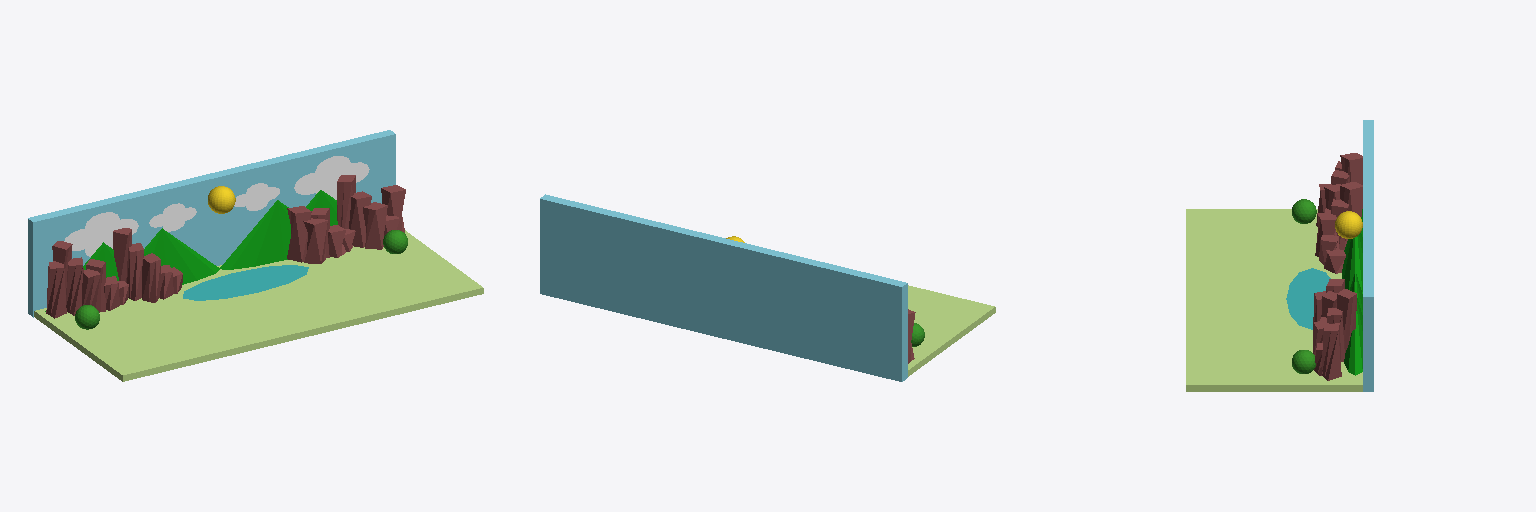
File: background-montains.obj
3 renders of one model, left to right at view 1: azimuth 30°, elevation 25°; view 2: azimuth 150°, elevation 25°; view 3: azimuth 270°, elevation 25°, orthographic.
Parts seen in each view (by area): view 1: Box3, Box, Cone3, Circle20, Cone2, Box15, Box13, Box19, Box16, Box7, Box4, Box5 (+6 smaller); view 2: Box, Box3; view 3: Box3, Box, Circle20, Box23, Cone2, Cone, Box17, Sphere, Box2, Box1.
Boxes of the visible parts, box(x1,y1,x2,y2) form: Box3: box(34, 230, 483, 381); Box: box(28, 130, 395, 317); Cone3: box(220, 200, 290, 269); Circle20: box(183, 265, 308, 300); Cone2: box(144, 228, 219, 284); Box15: box(287, 206, 311, 262); Box13: box(46, 261, 66, 318); Box19: box(363, 202, 387, 249); Box16: box(303, 218, 327, 263); Box7: box(142, 253, 160, 302); Box4: box(66, 257, 83, 315); Box5: box(126, 243, 143, 300); Box: box(540, 194, 907, 381); Box3: box(908, 285, 995, 376); Box3: box(1186, 209, 1362, 391); Box: box(1363, 120, 1373, 391); Circle20: box(1286, 268, 1330, 329); Box23: box(1322, 323, 1341, 380); Cone2: box(1342, 233, 1362, 293); Cone: box(1344, 292, 1362, 375); Box17: box(1337, 289, 1356, 352); Sphere: box(1335, 211, 1362, 238); Box2: box(1340, 182, 1362, 216); Box1: box(1340, 153, 1362, 184).
Size of the model in its own units: 3.99 by 1 by 1.8.